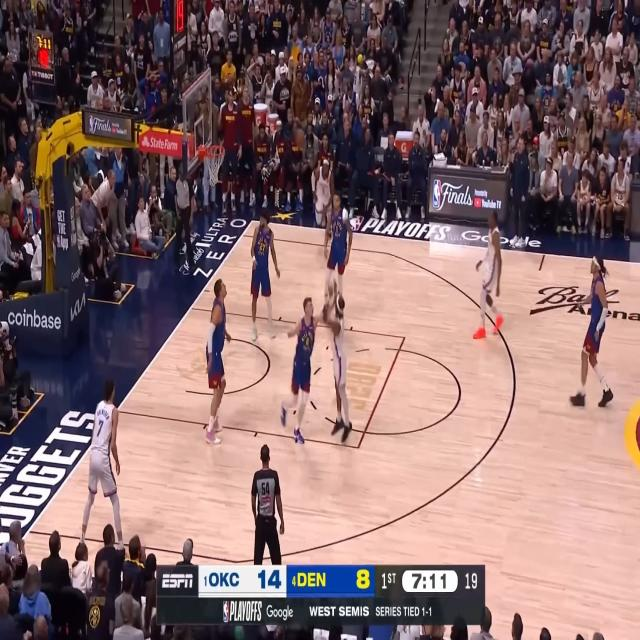ball: (295, 128, 306, 146)
number: (96, 418, 105, 438), (259, 242, 266, 251), (336, 224, 338, 234)
player: (78, 378, 125, 556), (568, 253, 614, 412), (203, 277, 232, 447), (472, 208, 505, 340), (250, 210, 280, 340), (323, 189, 353, 308), (311, 155, 334, 240)
player-jump-shot: (322, 276, 353, 446)
player-shot-block: (279, 279, 335, 448)
referee: (250, 444, 285, 565), (173, 169, 196, 275)
rim: (206, 144, 226, 156)
